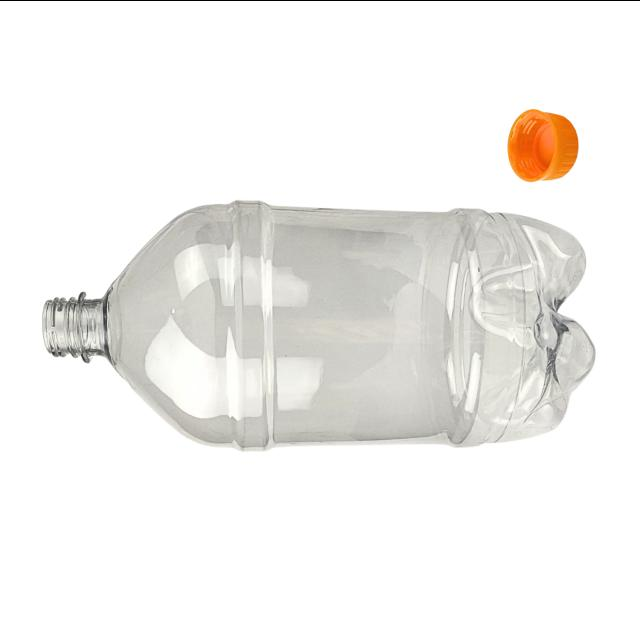bottle: (43, 201, 594, 449)
